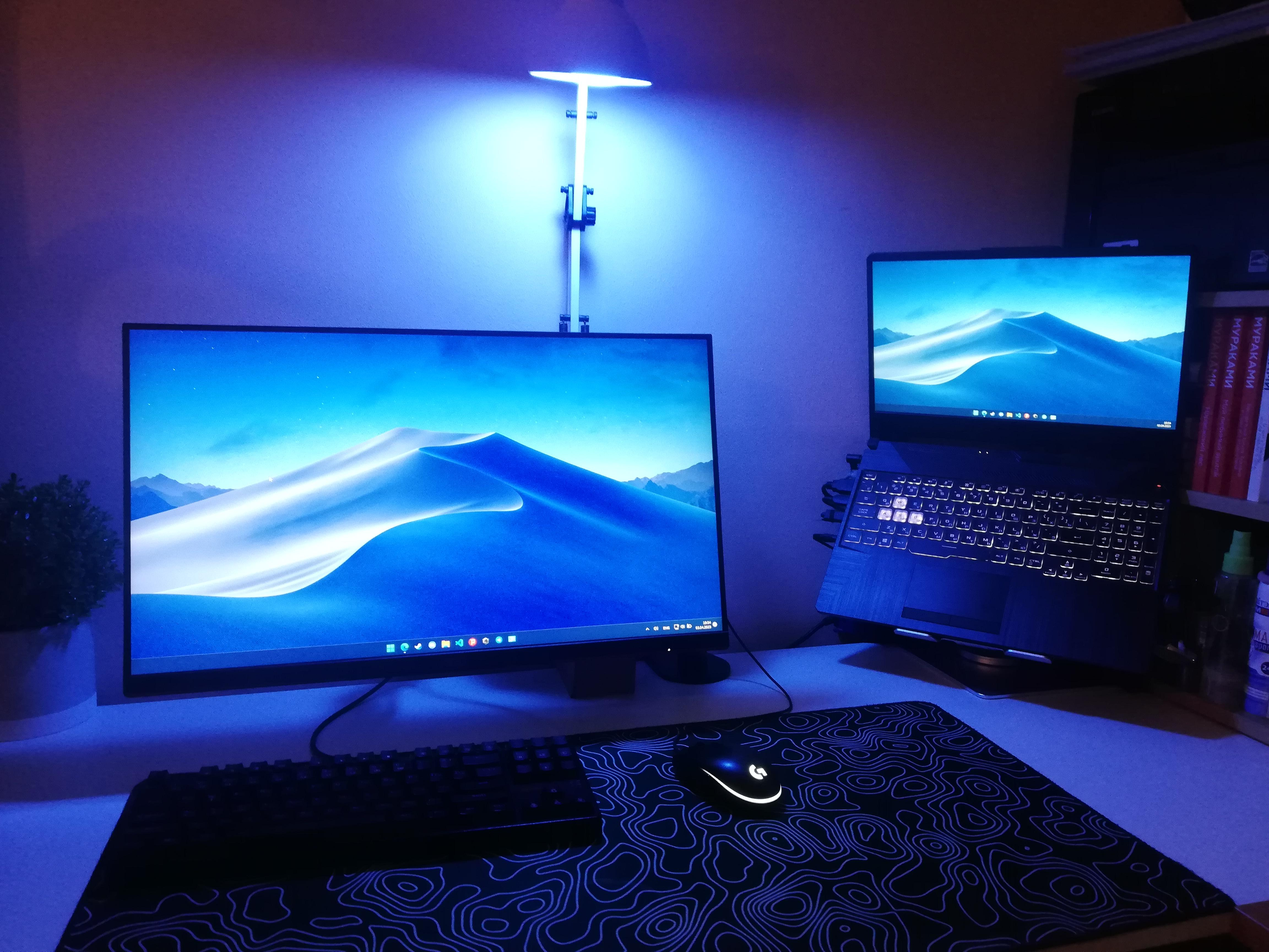monitor: (125, 320, 732, 700), (866, 248, 1198, 467)
